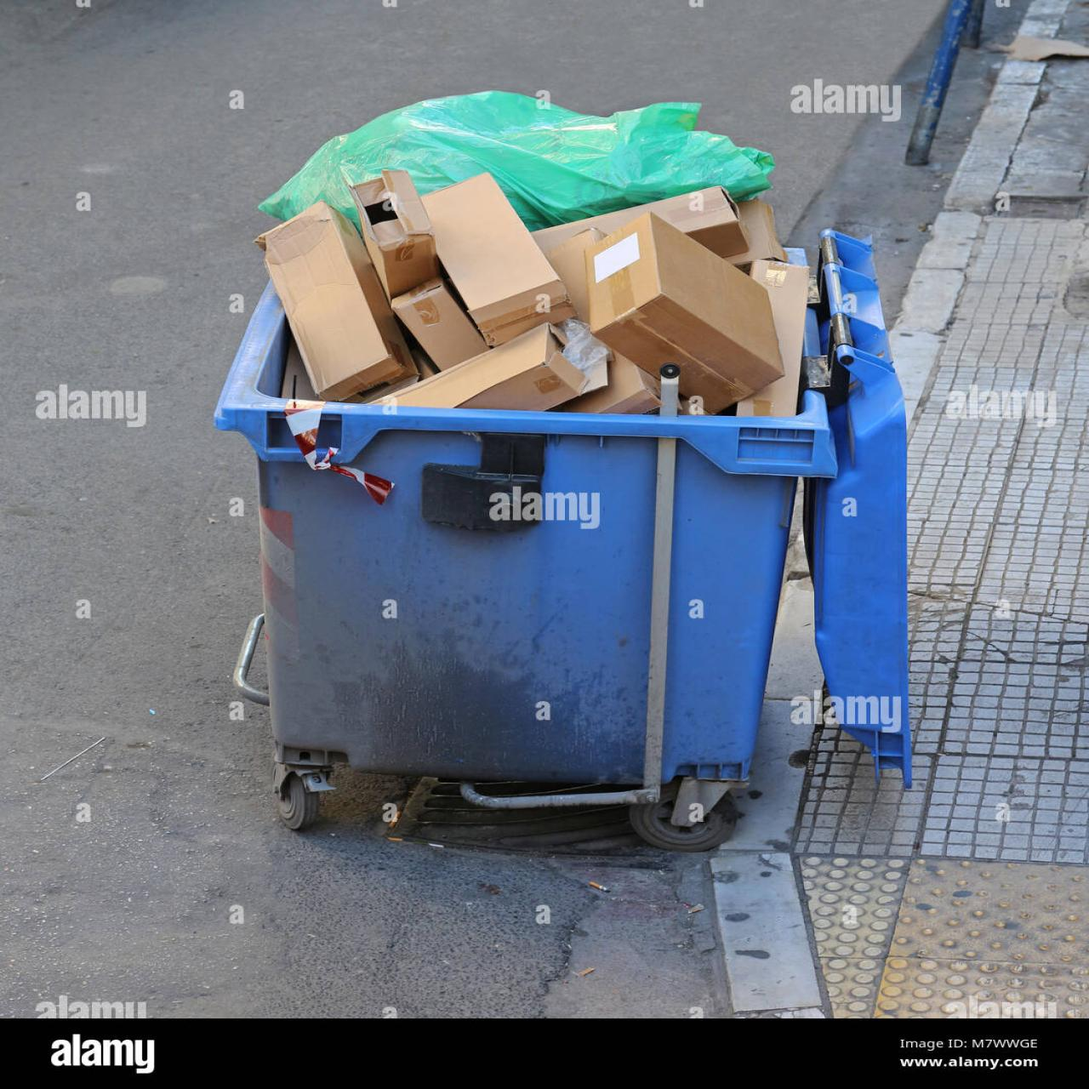bin_full: (215, 92, 909, 850)
bulk_waste: (584, 214, 783, 413), (265, 201, 415, 400), (423, 174, 573, 346), (398, 325, 585, 411), (397, 325, 585, 410), (350, 170, 439, 298)
normal_waste: (259, 90, 774, 231)
